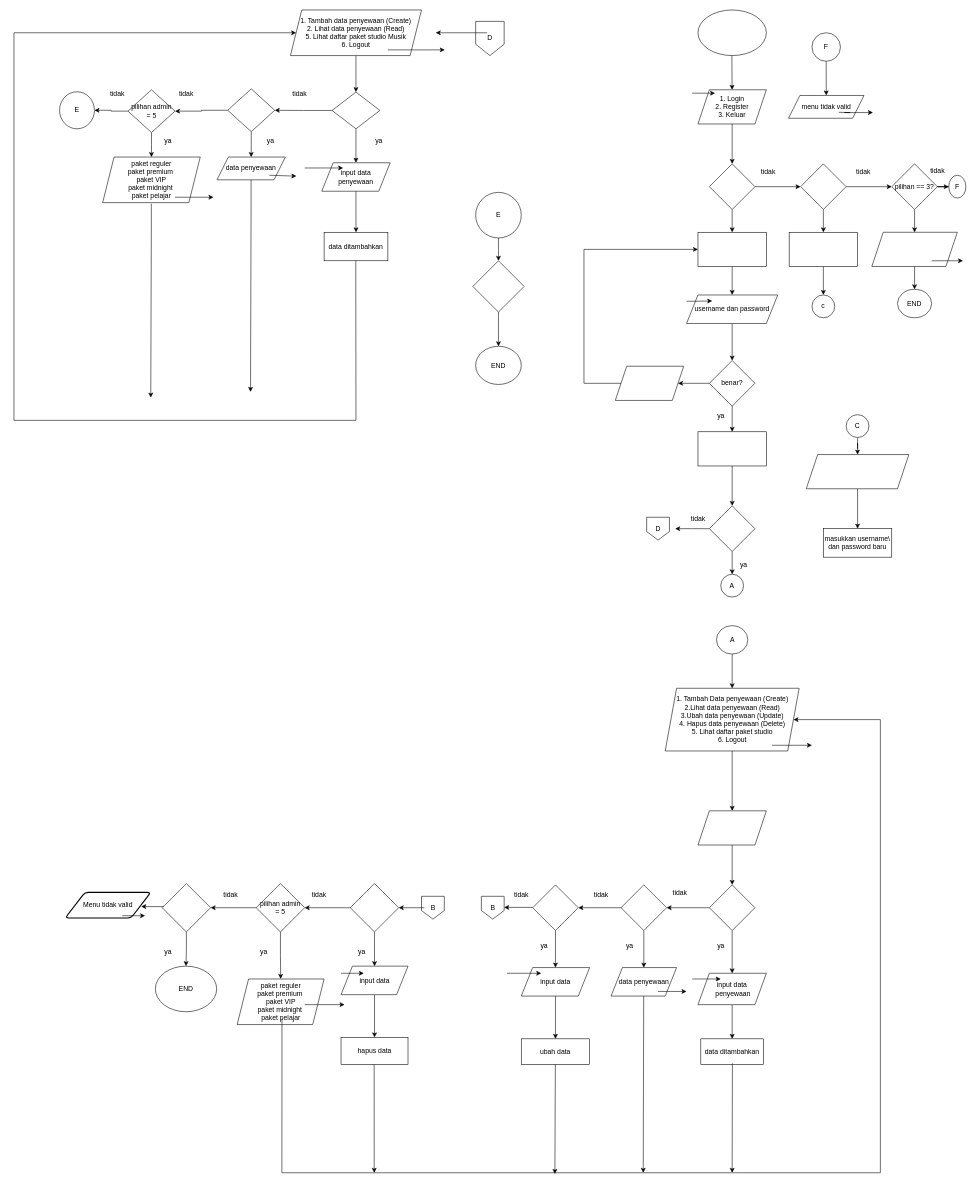
Some shapes in this 978 by 1188 pixel diagram are drawn without their labels. The centre of each missing label's shape, as x and y in pixels:
"apakah role admin?" belongs at point (732, 528).
"login berhasil" belongs at point (731, 448).
"login gagal" belongs at point (649, 383).
"masukkan username dan password" belongs at point (731, 249).
"masukkan username dan password baru" belongs at point (857, 471).
"pilih admin" belongs at point (731, 827).
"pilih admin = 1" belongs at point (732, 907).
"pilih admin = 2" belongs at point (643, 907).
"pilih admin = 3" belongs at point (555, 907).
"pilihan == 1?" belongs at point (732, 186).
"pilihan == 2?" belongs at point (823, 186).
"pilihan admin = 1" belongs at point (356, 110).
"pilihan admin = 2" belongs at point (251, 110).
"pilihan admin = 4" belongs at point (374, 907).
"pilihan admin = 6" belongs at point (186, 907).
"pilihan admin = ^" belongs at point (498, 286).
"START" belongs at point (731, 32).
"tampilkan from register" belongs at point (823, 249).
"terimakasih telah menggunakan sistem penyewaan studio musik" belongs at point (914, 249).
